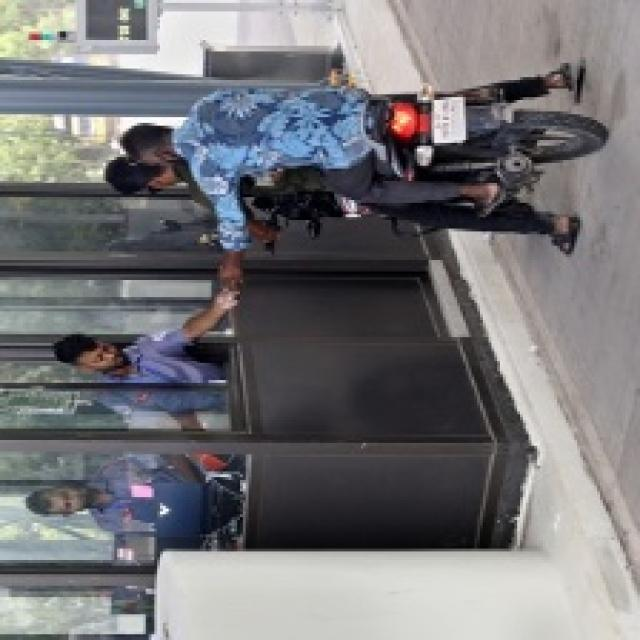bike: (223, 105, 600, 227)
